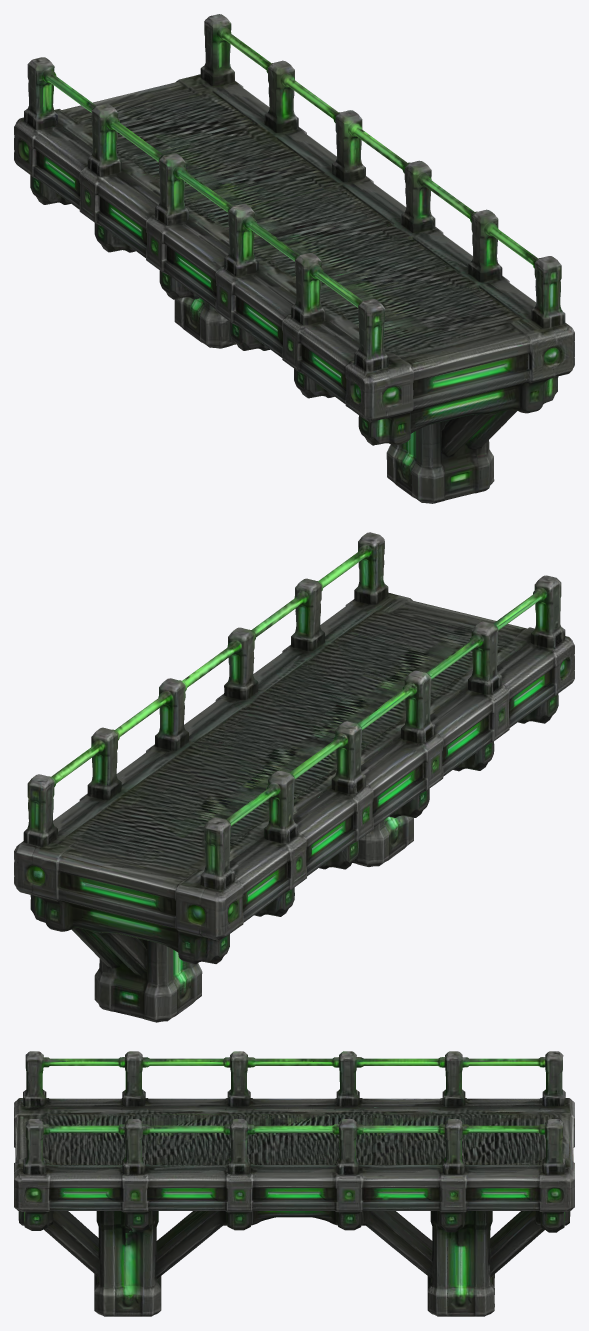
Rendered from catwalk-section.glb.
The picture shows the model from 3 angles, top to bottom: view 1: azimuth 30°, elevation 25°; view 2: azimuth 150°, elevation 25°; view 3: azimuth 270°, elevation 25°; orthographic projection. The views are drawn at different scales.
Parts seen in each view (by area): view 1: material; view 2: material; view 3: material.
Part boxes in pixels (box(x1,y1,x2,y2)): material: box(14, 14, 574, 503); material: box(14, 532, 574, 1022); material: box(14, 1051, 574, 1316).
Size of the model in its own units: 0.382 by 0.4412 by 1.11.
Materials: 1 (1 with a texture image).
